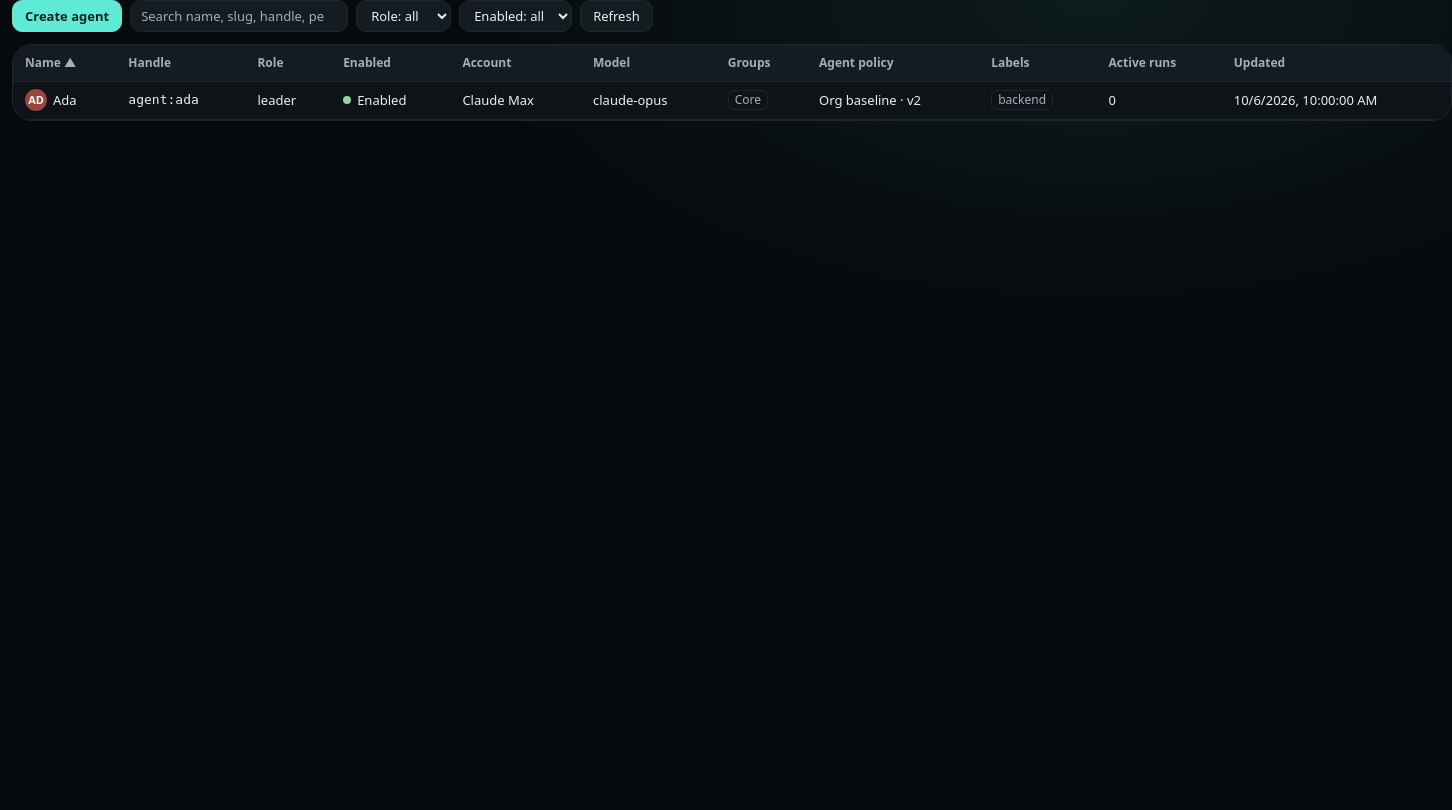
Agents screen › lists agents and shows effective policy with the source level per rule and effective skills
Check: the text "Core" is shown, box [728,90,768,110]
Check: the text "Org baseline · v2" is shown, box [807,81,979,119]
Step 1. Click the text "agent:ada" → (164, 100), box [128,92,199,107]
(page scrolled)
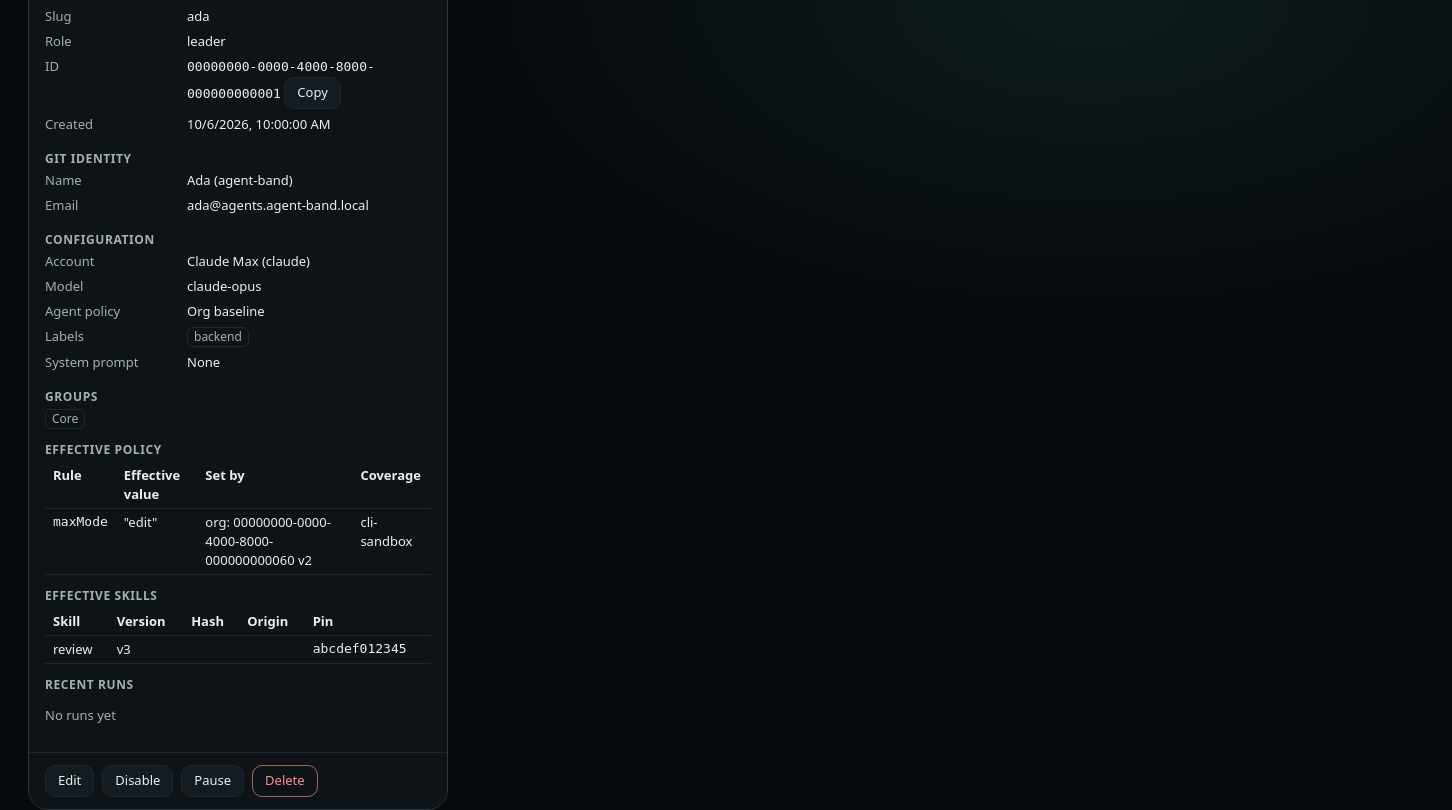
Check: the text "ada@agents.agent-band.local" is shown, box [187,196,369,214]
Check: the text "maxMode" shows "edit", box [124,513,157,531]
Check: the text "maxMode" shows "cli-sandbox", box [360,513,412,550]
